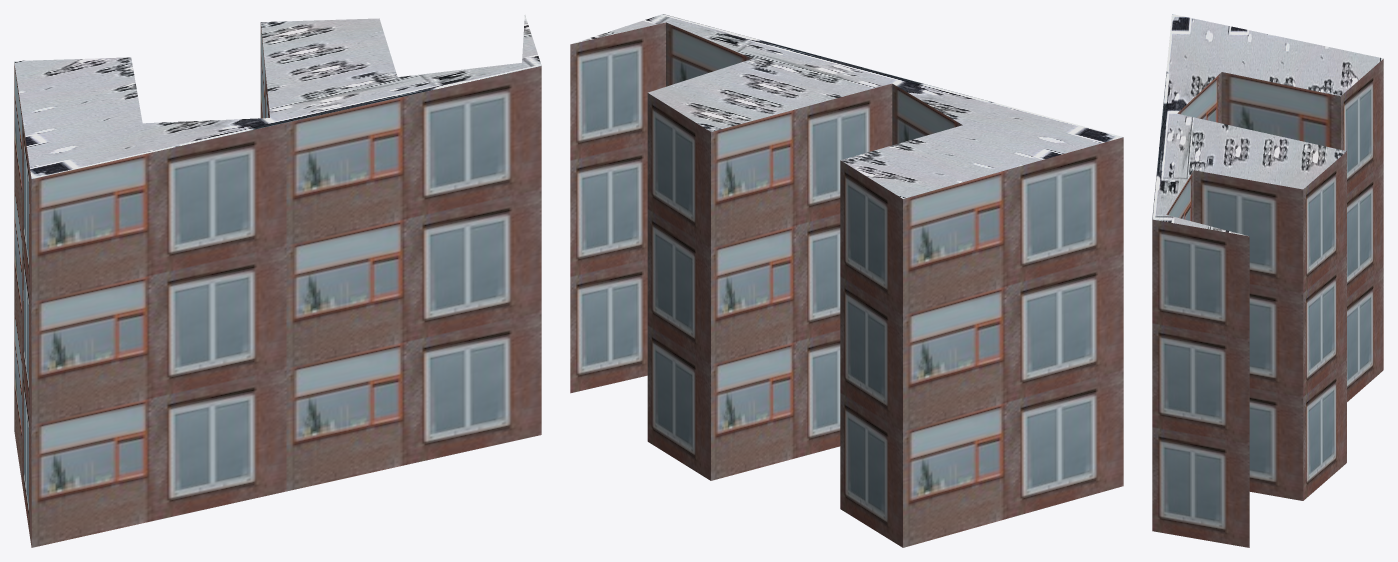
File: ResTex__5311.fbx
3 views of the same model, side by side, from view 1: azimuth 30°, elevation 25°; view 2: azimuth 150°, elevation 25°; view 3: azimuth 270°, elevation 25° (orthographic). The views are drawn at different scales.
Visible parts, largest first — view 1: CityEngineMaterial_19_m, CityEngineMaterial_15_m; view 2: CityEngineMaterial_19_m, CityEngineMaterial_15_m; view 3: CityEngineMaterial_19_m, CityEngineMaterial_15_m.
Part boxes in pixels (x1,y1,x2,y2): CityEngineMaterial_19_m: [14, 23, 541, 547]; CityEngineMaterial_15_m: [14, 15, 541, 178]; CityEngineMaterial_19_m: [570, 22, 1123, 547]; CityEngineMaterial_15_m: [572, 14, 1123, 198]; CityEngineMaterial_19_m: [1152, 59, 1383, 547]; CityEngineMaterial_15_m: [1152, 14, 1383, 236].
Bounding box in the file's own units: 13.77 × 9 × 6.06.
Materials: 2 (2 with a texture image).
